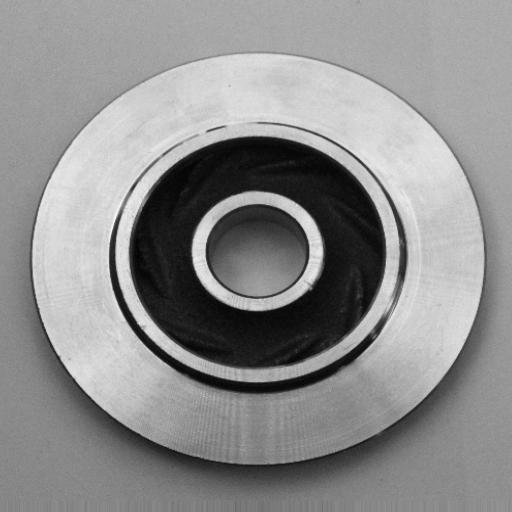unpolished_casting: (29, 46, 488, 471)
